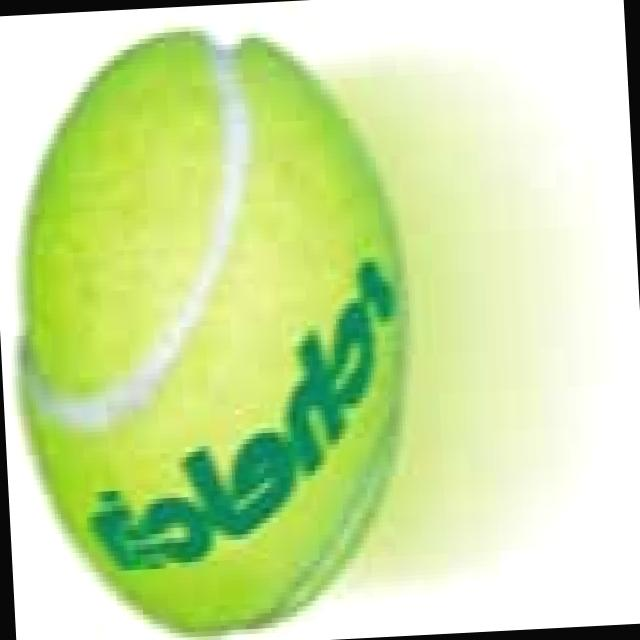Tennis Ball: (11, 26, 413, 640)
